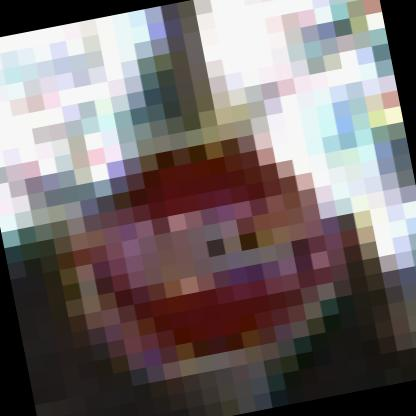stop: (38, 92, 378, 404)
